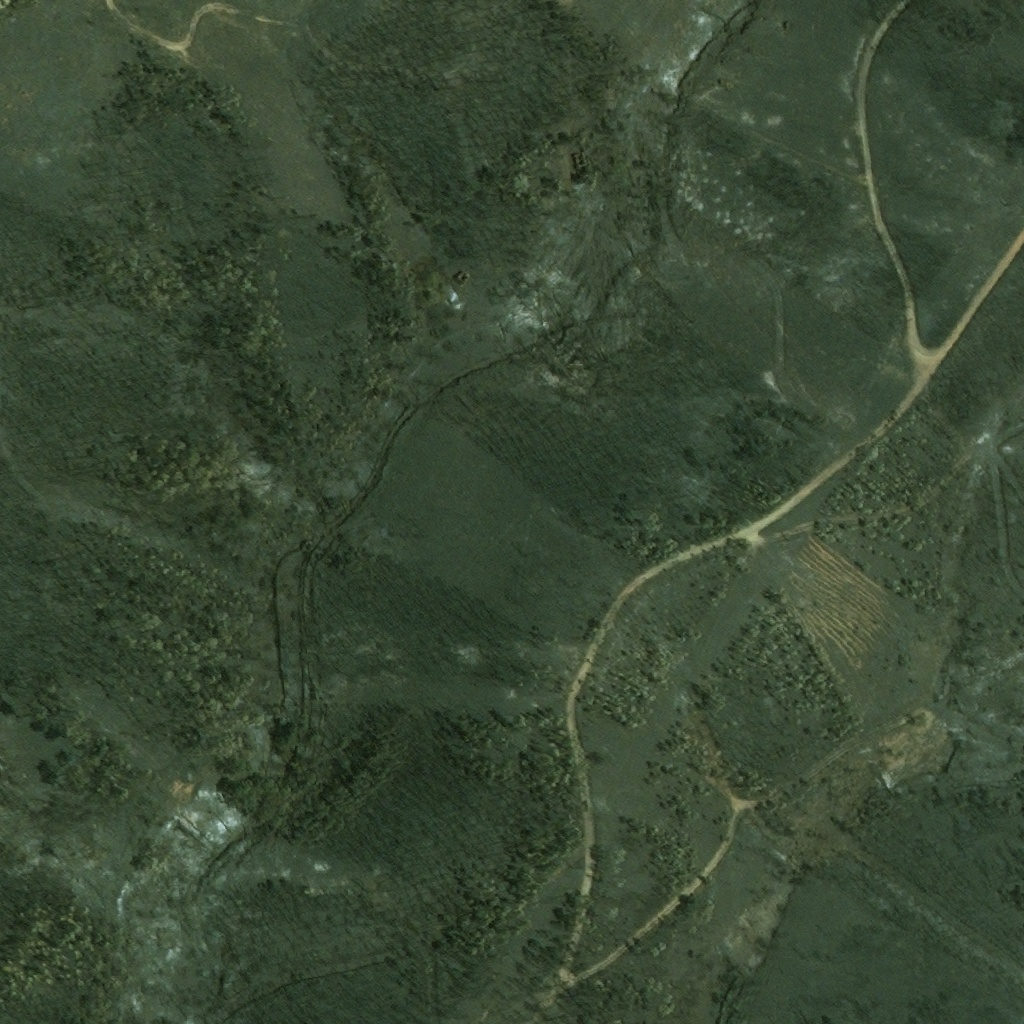0 no-damage: (455, 270, 470, 285)
